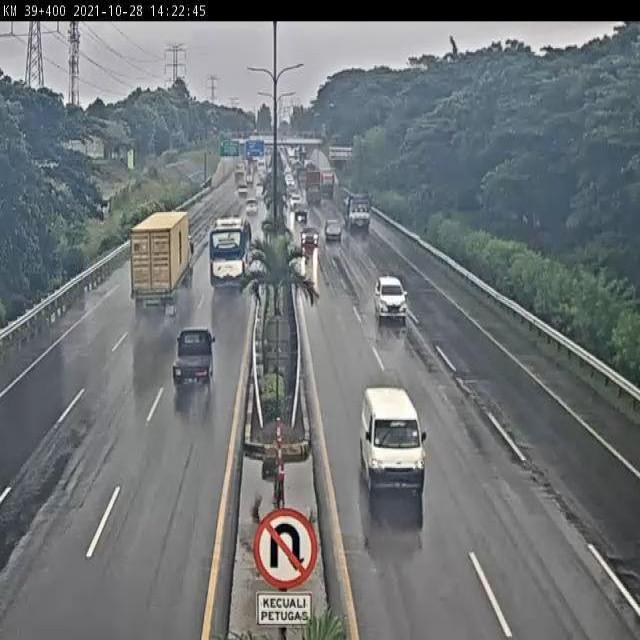big bus: (206, 218, 253, 298)
truck-l-: (343, 191, 374, 233)
truck-xl-: (131, 209, 195, 308)
